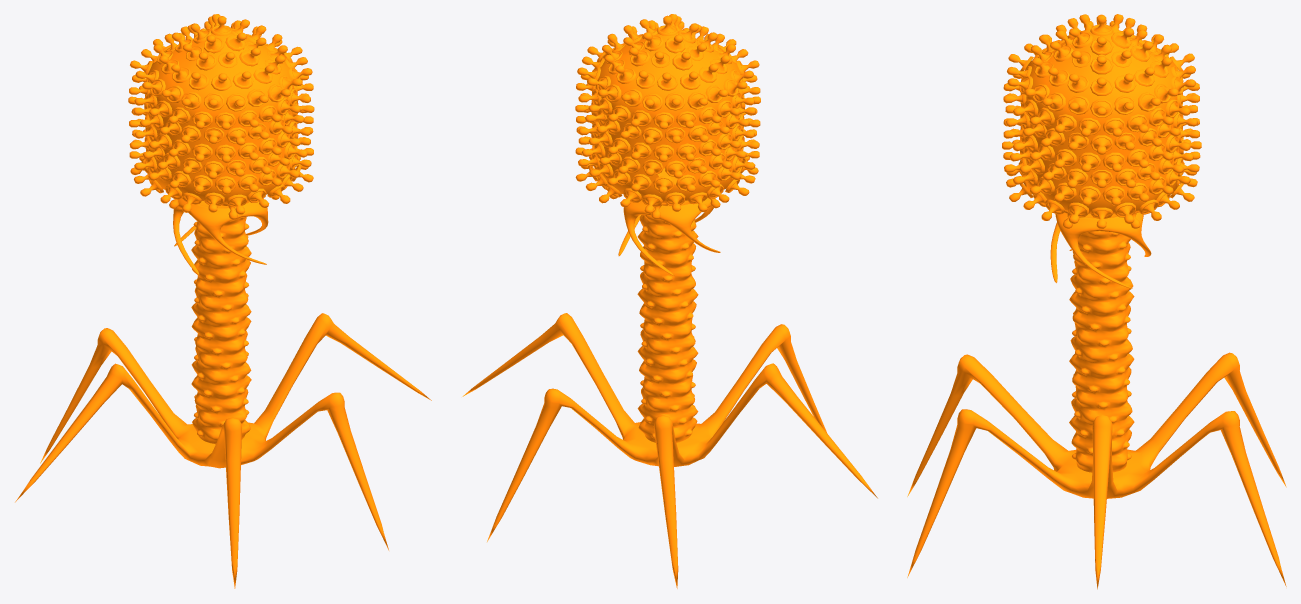
3 views of the same model, side by side, from view 1: azimuth 30°, elevation 25°; view 2: azimuth 150°, elevation 25°; view 3: azimuth 270°, elevation 25° (orthographic). The views are drawn at different scales.
Visible parts, largest first — view 1: Circle; view 2: Circle; view 3: Circle.
Boxes of the visible parts, x1,y1,x2,y2 form: Circle: [15, 14, 431, 588]; Circle: [462, 14, 877, 588]; Circle: [907, 14, 1286, 589].
Size of the model in its own units: 4.13 by 4.61 by 3.03.
